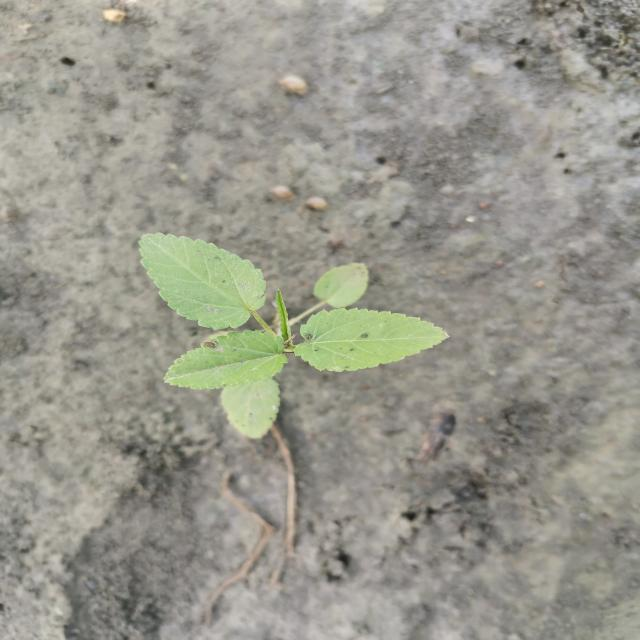PricklySida: (136, 231, 453, 440)
